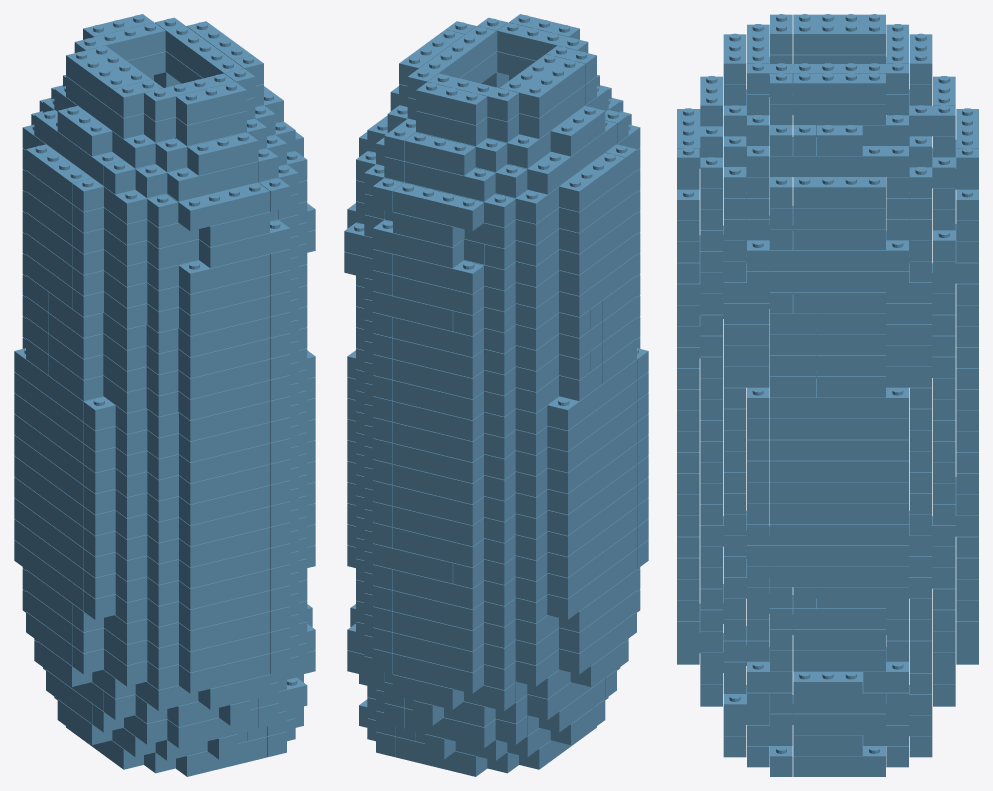
Rendered from 104_bowl_L4.glb.
3 views of the same model, side by side, from view 1: azimuth 30°, elevation 25°; view 2: azimuth 150°, elevation 25°; view 3: azimuth 270°, elevation 25° (orthographic).
Size of the model in its own units: 11.98 by 32.13 by 12.98.
